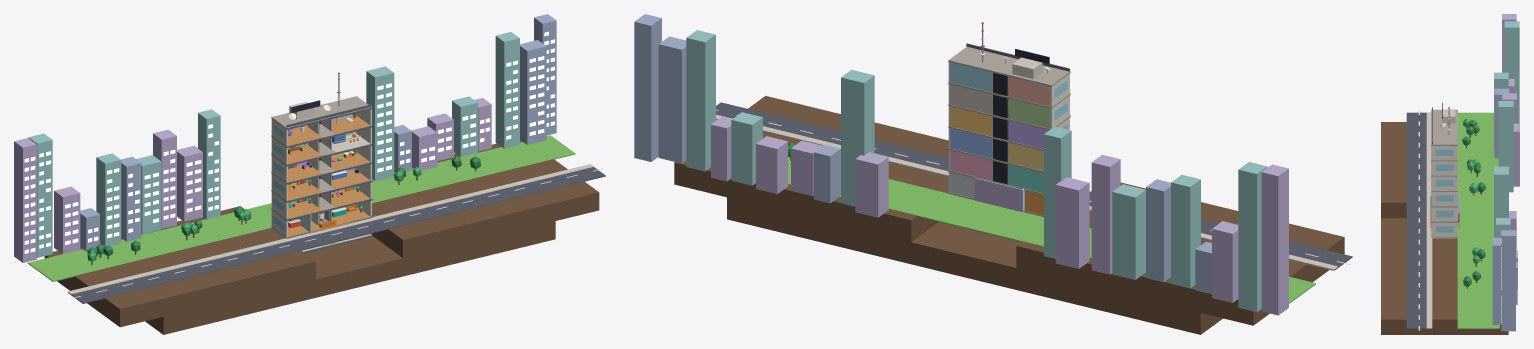
The model's file is crazytv.glb.
3 views of the same model, side by side, from view 1: azimuth 30°, elevation 25°; view 2: azimuth 150°, elevation 25°; view 3: azimuth 270°, elevation 25° (orthographic). The views are drawn at different scales.
Parts seen in each view (by area): view 1: tower_shell, city_mesh, city_windows, room_office_trash, room_lobby, room_newsroom, room_studio, room_ads, room_terrace, room_office_prestige, room_office_k7, room_market (+1 smaller); view 2: city_mesh, tower_shell, livingroom_mesh, wall_boss, wall_jury, wall_ads, wall_newsroom, wall_office_trash, wall_terrace, wall_studio, wall_market, wall_office_k7 (+1 smaller); view 3: tower_shell, city_mesh, livingroom_mesh, city_windows.
Boxes of the visible parts, x1,y1,x2,y2 form: tower_shell: (27,72,605,334); city_mesh: (14,14,556,265); city_windows: (24,31,554,253); room_office_trash: (332,185,370,206); room_lobby: (332,204,369,225); room_newsroom: (332,168,370,188); room_studio: (331,133,369,152); room_ads: (332,149,370,170); room_terrace: (332,113,370,134); room_office_prestige: (288,179,322,200); room_office_k7: (288,197,322,218); room_market: (288,162,322,182); city_mesh: (634,14,1288,315); tower_shell: (674,22,1352,334); livingroom_mesh: (974,178,1024,211); wall_boss: (1008,98,1050,128); wall_jury: (1008,76,1050,106); wall_ads: (950,106,991,136); wall_newsroom: (950,128,991,158); wall_office_trash: (950,150,991,180); wall_terrace: (950,62,991,92); wall_studio: (950,84,991,114); wall_market: (1008,120,1048,149); wall_office_k7: (1008,164,1043,193); tower_shell: (1381,102,1508,334); city_mesh: (1462,14,1519,331); livingroom_mesh: (1430,196,1459,227); city_windows: (1501,25,1501,322).
Size of the model in its own units: 123 by 39.61 by 32.68.
